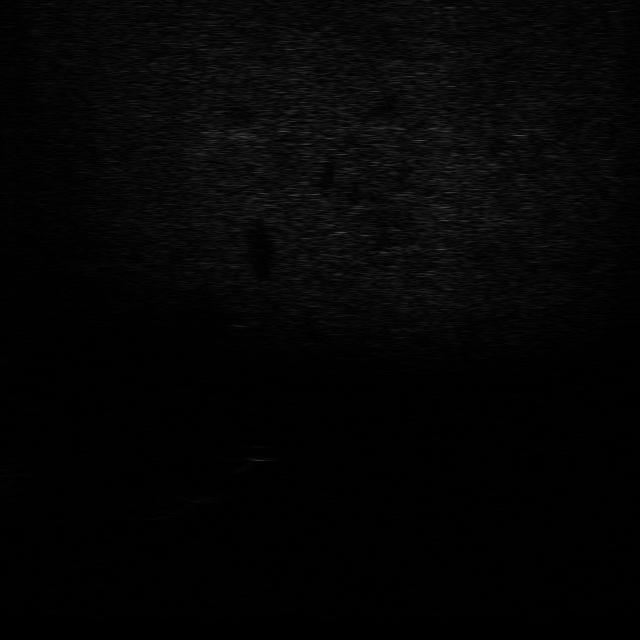ball: (228, 439, 282, 469)
square cage: (148, 487, 226, 522)
